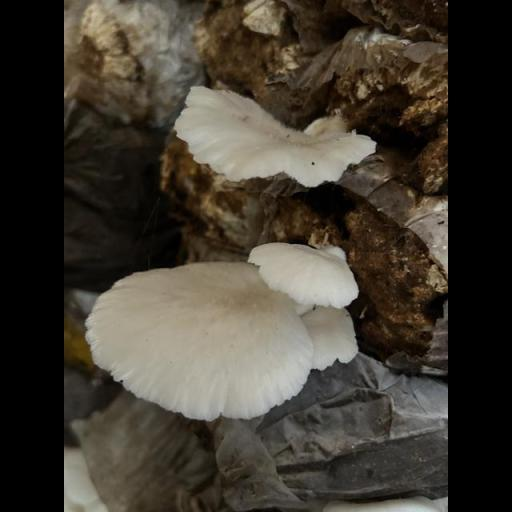White Oyster Mushroom: (83, 233, 378, 431), (165, 62, 402, 202)
